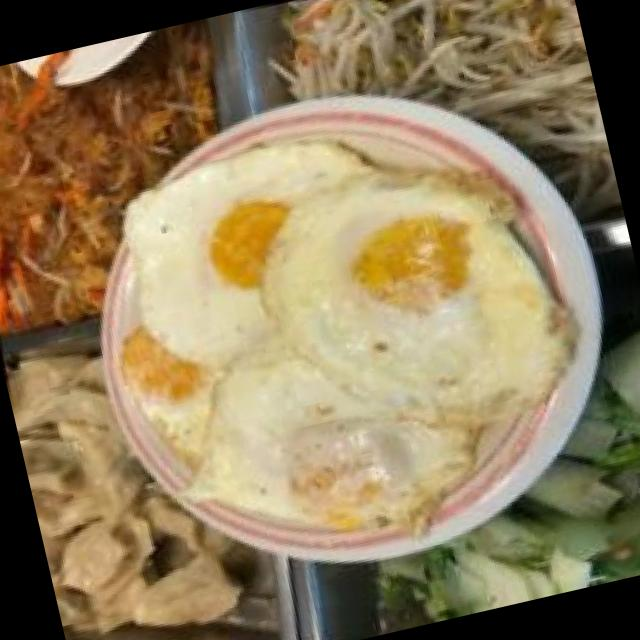fried_dumplings: (6, 2, 293, 154)
fried_eggs: (46, 63, 560, 618)
mung_bean_sprouts: (517, 270, 640, 587)
